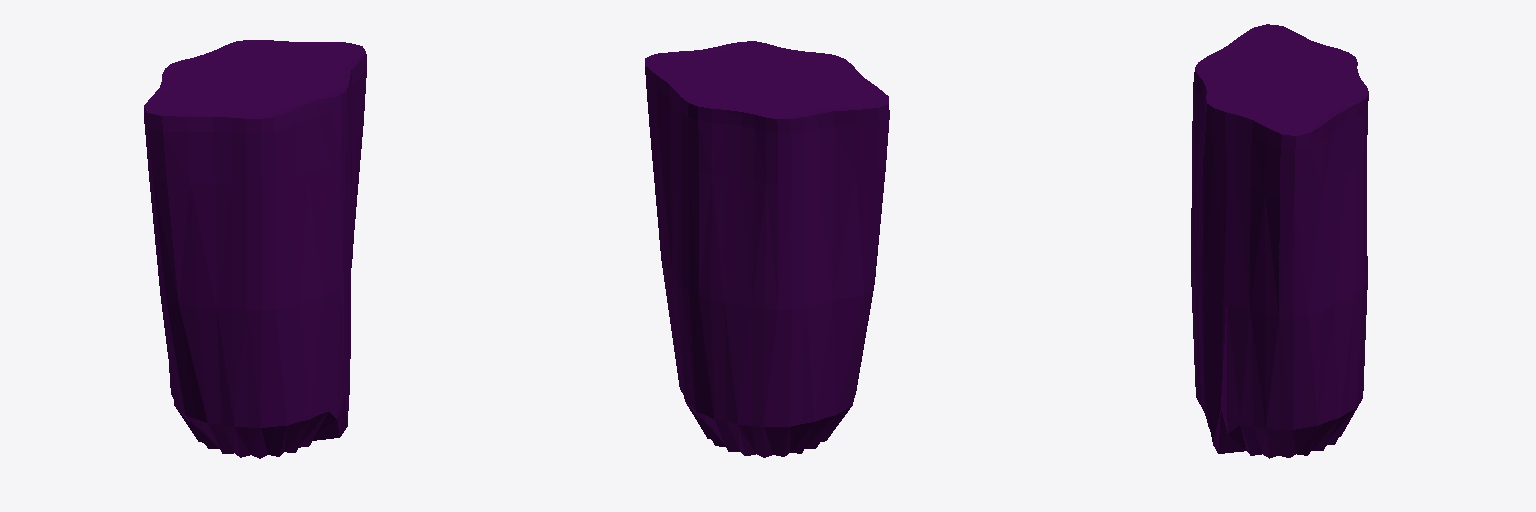
Rendered from bullet1.obj.
3 renders of one model, left to right at view 1: azimuth 30°, elevation 25°; view 2: azimuth 150°, elevation 25°; view 3: azimuth 270°, elevation 25°, orthographic.
Visible parts, largest first — view 1: pCylinder1; view 2: pCylinder1; view 3: pCylinder1.
Boxes of the visible parts, x1,y1,x2,y2 form: pCylinder1: [144, 40, 366, 458]; pCylinder1: [645, 41, 889, 457]; pCylinder1: [1191, 24, 1368, 458].
Size of the model in its own units: 1.81 by 2.66 by 1.22.